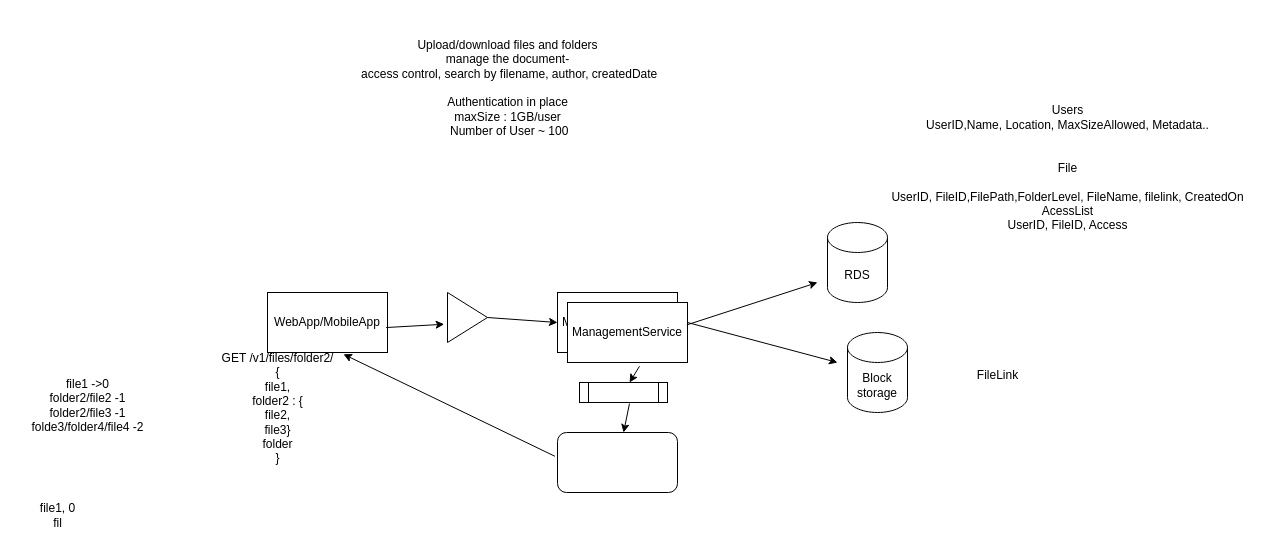
This 1274x552 diagram has some shape labels left out. The shapes that lost their labels are listed below. From the top down, each one's box as (x1, y1, x2, y2) in pixels, then its label:
(446, 292, 488, 342): LB
(578, 382, 668, 402): MQ
(556, 432, 678, 492): Notification
